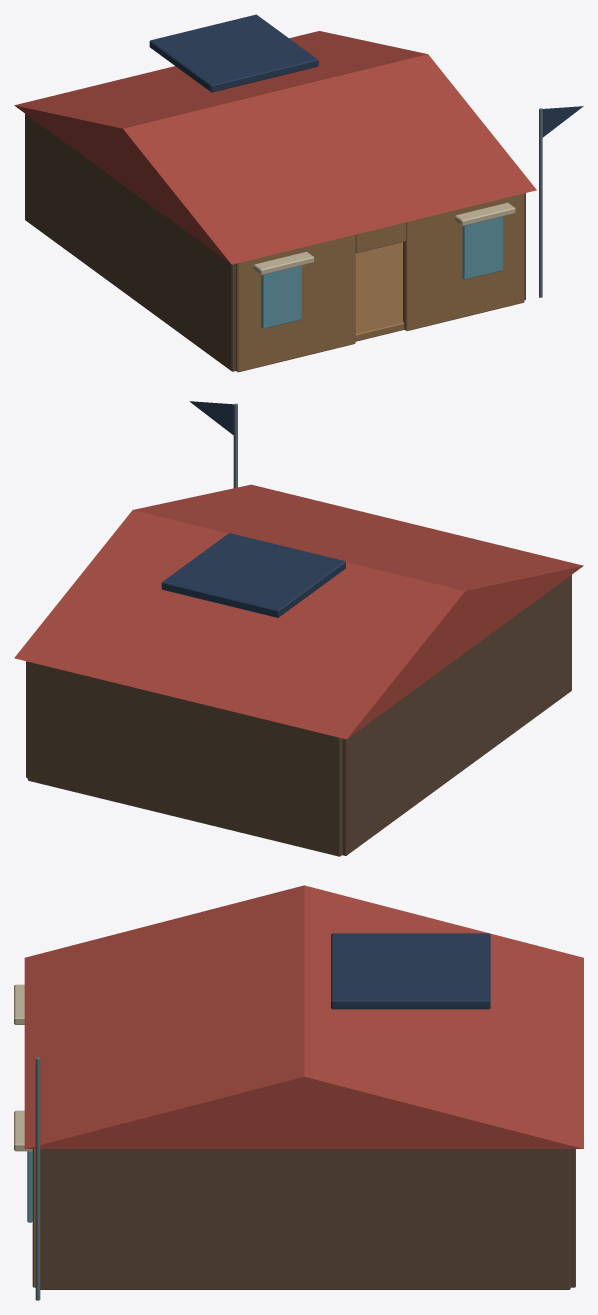
The model's file is harbor-naval-quarters.lod0.glb.
3 renders of one model, top to bottom at view 1: azimuth 30°, elevation 25°; view 2: azimuth 150°, elevation 25°; view 3: azimuth 270°, elevation 25°, orthographic. The views are drawn at different scales.
Visible parts, largest first — view 1: harbor-naval-quarters__roof, harbor-naval-quarters__body, harbor-naval-quarters__front-wall; view 2: harbor-naval-quarters__roof, harbor-naval-quarters__body; view 3: harbor-naval-quarters__roof, harbor-naval-quarters__body, harbor-naval-quarters__front-wall.
Part boxes in pixels (x1,y1,x2,y2): harbor-naval-quarters__roof: [14, 14, 536, 264]; harbor-naval-quarters__body: [25, 106, 583, 371]; harbor-naval-quarters__front-wall: [235, 193, 524, 372]; harbor-naval-quarters__roof: [14, 484, 583, 739]; harbor-naval-quarters__body: [26, 401, 571, 856]; harbor-naval-quarters__roof: [24, 885, 583, 1148]; harbor-naval-quarters__body: [14, 984, 575, 1300]; harbor-naval-quarters__front-wall: [32, 1149, 35, 1287].
Size of the model in its own units: 9.95 by 5 by 10.7.
